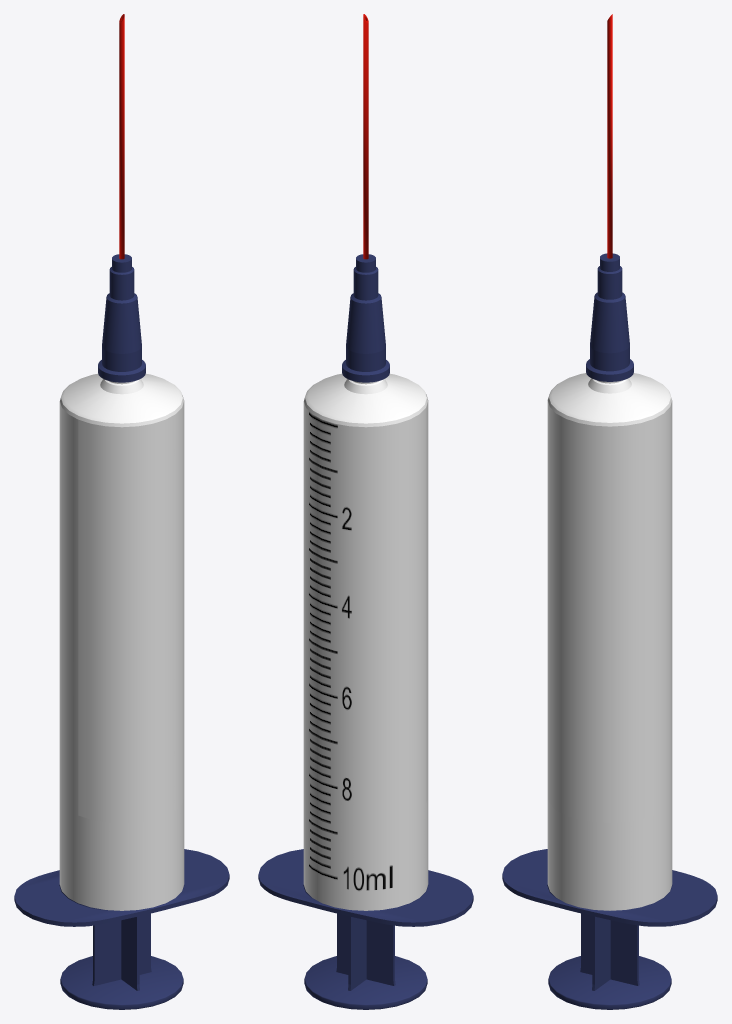
Rendered from PicoSyringe.fbx.
The picture shows the model from 3 angles, left to right: view 1: azimuth 30°, elevation 25°; view 2: azimuth 150°, elevation 25°; view 3: azimuth 330°, elevation 25°; orthographic projection.
Visible parts, largest first — view 1: Cylinder.005_Cylinder.007, Purple, Cylinder.001, Cylinder.003_Cylinder.004, Cube_Cube.001, Cylinder.002; view 2: Purple, Cylinder.001, Cylinder.003_Cylinder.004, Cube_Cube.001, Cylinder.002, Cylinder.005_Cylinder.007; view 3: Cylinder.005_Cylinder.007, Purple, Cylinder.001, Cylinder.003_Cylinder.004, Cube_Cube.001, Cylinder.002.
Boxes of the visible parts, x1,y1,x2,y2 form: Cylinder.005_Cylinder.007: [78, 395, 184, 823]; Purple: [14, 373, 229, 926]; Cylinder.001: [98, 254, 145, 382]; Cylinder.003_Cylinder.004: [60, 956, 183, 1009]; Cube_Cube.001: [92, 913, 151, 990]; Cylinder.002: [119, 14, 124, 259]; Purple: [258, 373, 473, 926]; Cylinder.001: [342, 254, 389, 382]; Cylinder.003_Cylinder.004: [304, 956, 427, 1009]; Cube_Cube.001: [336, 913, 395, 990]; Cylinder.002: [363, 14, 368, 259]; Cylinder.005_Cylinder.007: [426, 394, 428, 802]; Cylinder.005_Cylinder.007: [547, 394, 653, 822]; Purple: [502, 373, 717, 926]; Cylinder.001: [586, 253, 633, 381]; Cylinder.003_Cylinder.004: [548, 956, 671, 1009]; Cube_Cube.001: [580, 913, 639, 990]; Cylinder.002: [607, 14, 612, 258].
Size of the model in its own units: 0.4981 by 2.33 by 0.2759.
Materials: 4 (1 with a texture image).
